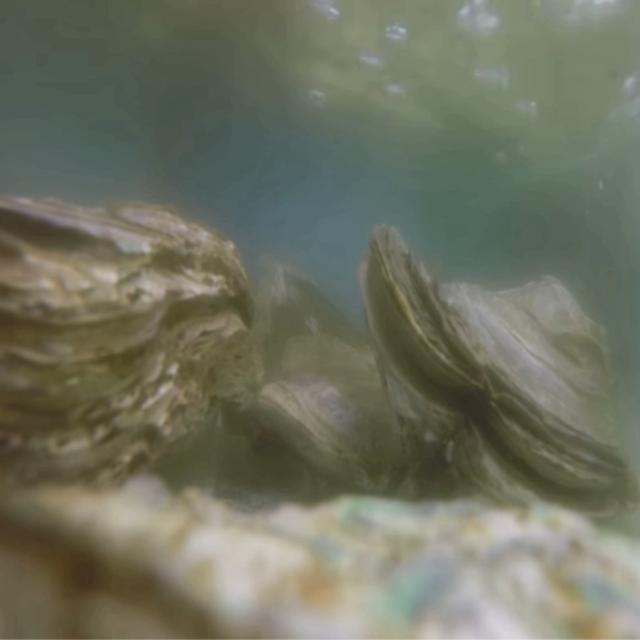Oyster-Closed: (0, 193, 255, 526)
Oyster-Indeterminate: (0, 473, 640, 640), (258, 332, 421, 501)
Oyster-Open: (358, 223, 640, 540)
